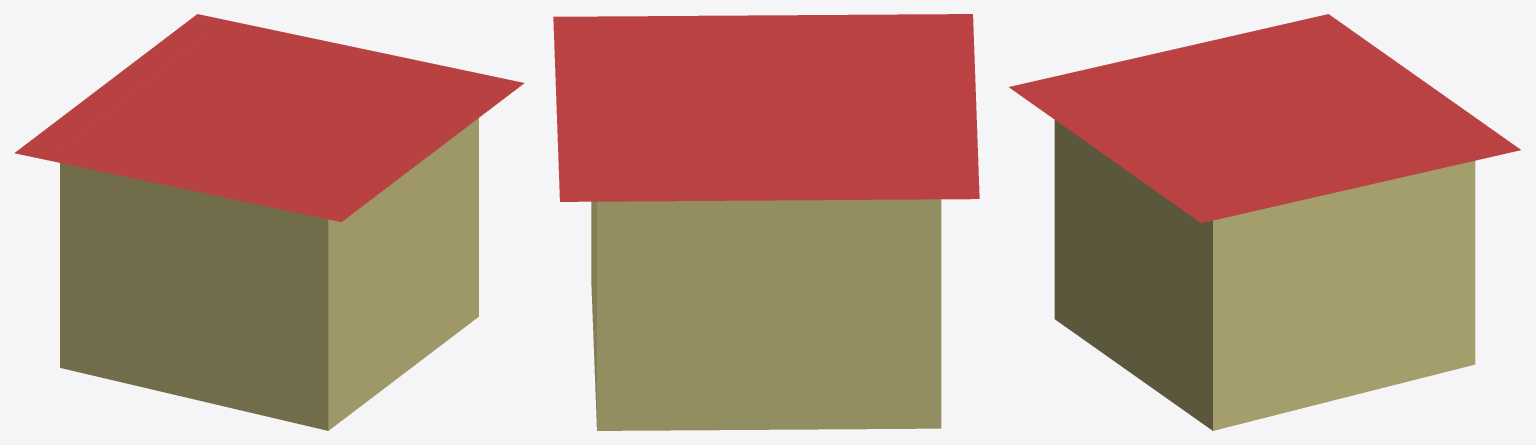
3 renders of one model, left to right at view 1: azimuth 30°, elevation 25°; view 2: azimuth 150°, elevation 25°; view 3: azimuth 270°, elevation 25°, orthographic. The views are drawn at different scales.
Bounding box in the file's own units: 11.45 × 11.43 × 5.59.
